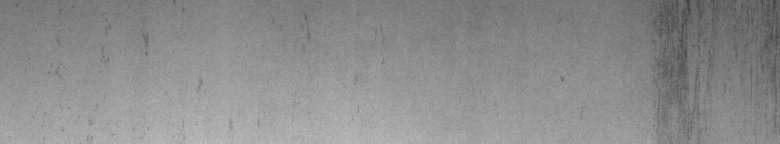ka: (653, 4, 776, 104)
